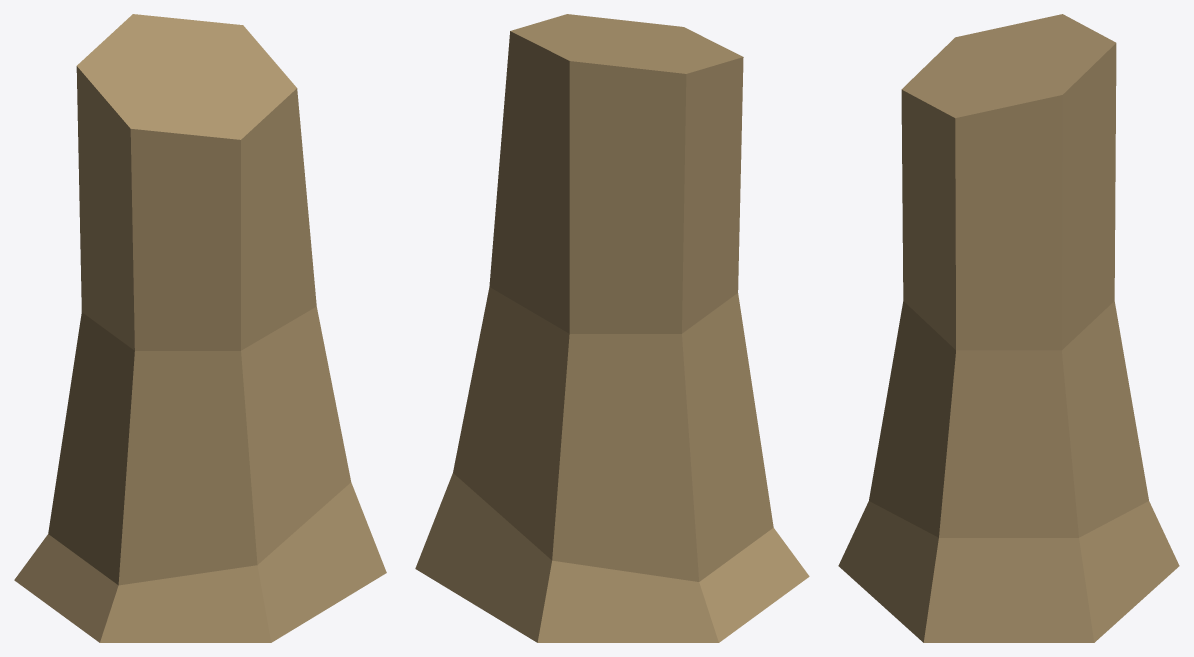
The model's file is Felsen_002.gltf.
The picture shows the model from 3 angles, left to right: view 1: azimuth 30°, elevation 25°; view 2: azimuth 150°, elevation 25°; view 3: azimuth 270°, elevation 25°; orthographic projection. The views are drawn at different scales.
Parts seen in each view (by area): view 1: Felsen.002-col; view 2: Felsen.002-col; view 3: Felsen.002-col.
Boxes of the visible parts, x1,y1,x2,y2 form: Felsen.002-col: (14,14,386,642); Felsen.002-col: (415,14,809,642); Felsen.002-col: (838,14,1179,642).
Size of the model in its own units: 1.65 by 2.89 by 1.71.
